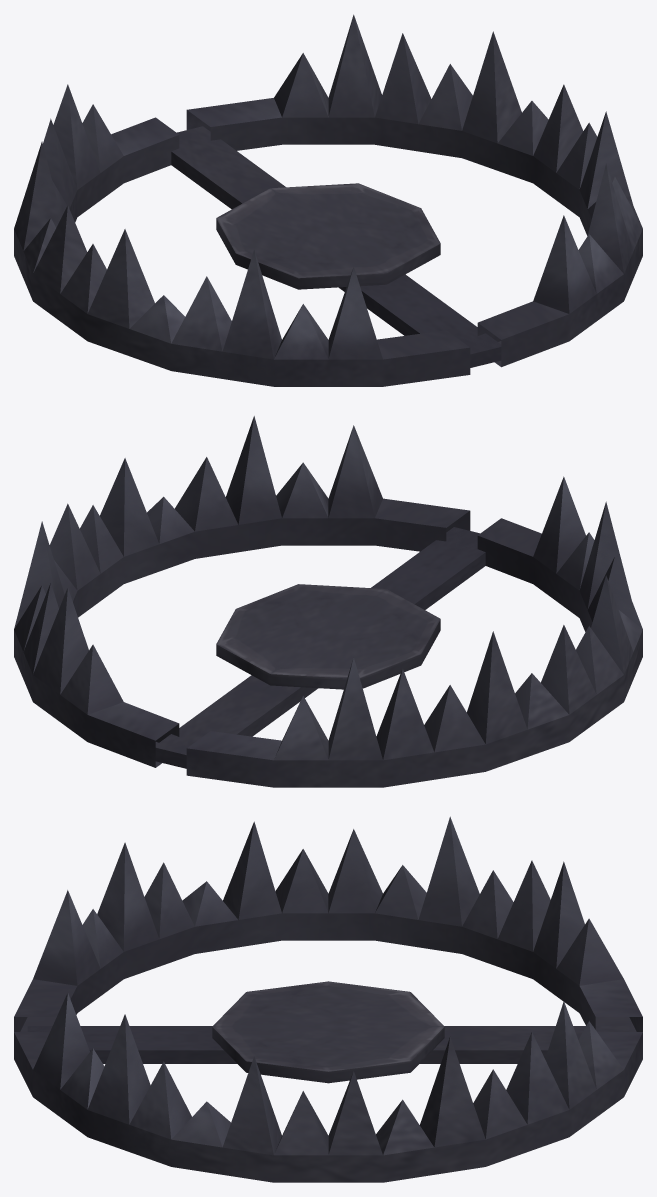
The model's file is trap1.fbx.
The picture shows the model from 3 angles, top to bottom: view 1: azimuth 30°, elevation 25°; view 2: azimuth 150°, elevation 25°; view 3: azimuth 270°, elevation 25°; orthographic projection.
Parts seen in each view (by area): view 1: trap; view 2: trap; view 3: trap.
Boxes of the visible parts, x1,y1,x2,y2 form: trap: (14,14,642,386); trap: (14,416,642,787); trap: (14,816,642,1182).
Bounding box in the file's own units: 32.88 × 7.35 × 33.39.
1 material, 1 textured.
